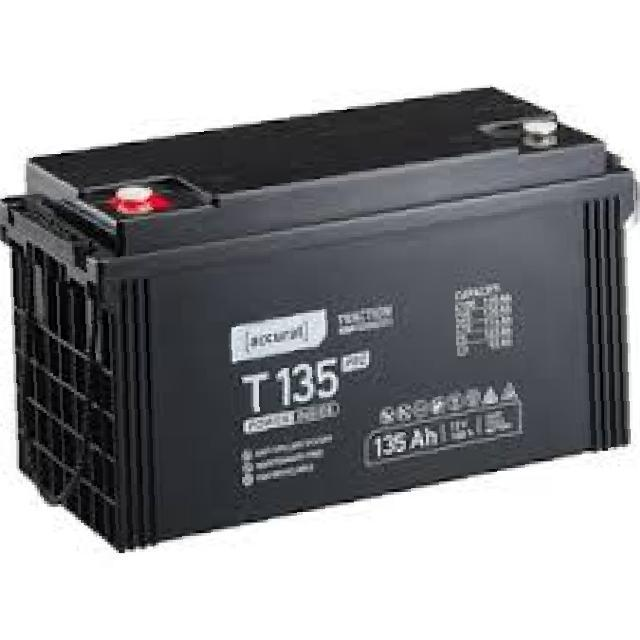Battery: (5, 55, 640, 565)
